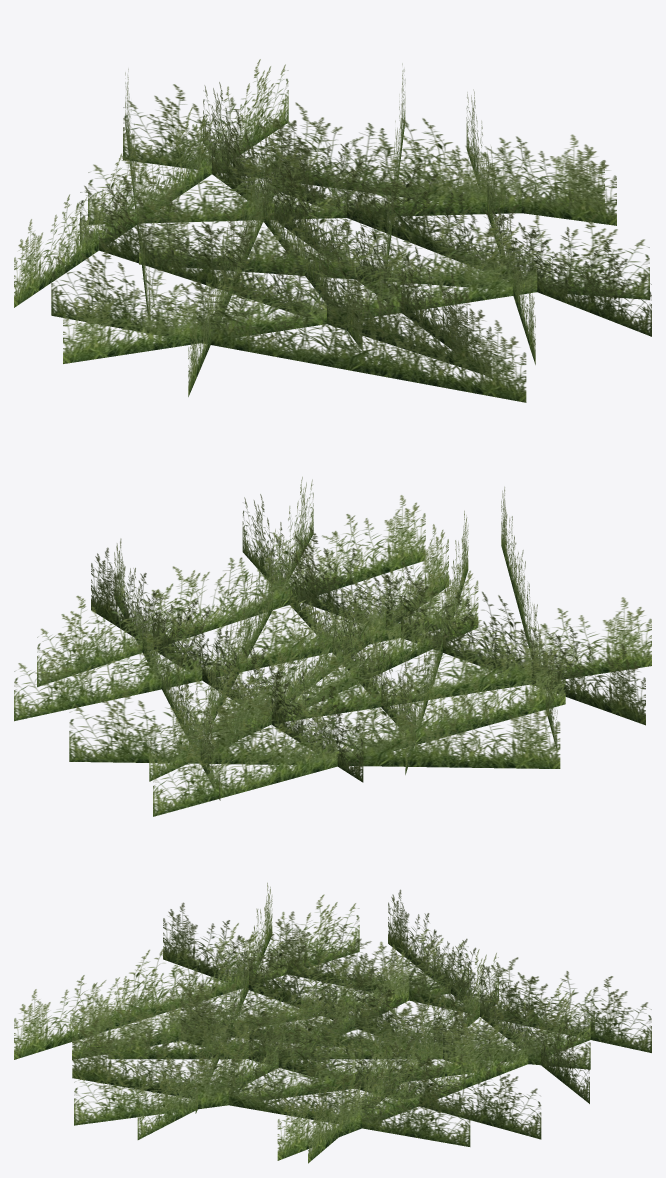
File: green grass.glb
3 views of the same model, one above another, from view 1: azimuth 30°, elevation 25°; view 2: azimuth 150°, elevation 25°; view 3: azimuth 270°, elevation 25° (orthographic). The views are drawn at different scales.
Parts seen in each view (by area): view 1: grass transparent.002, grass transparent.012, grass transparent.009, grass transparent.011, grass transparent.007, grass transparent.006, grass transparent.013, grass transparent.008, grass transparent, grass transparent.010, grass transparent.001, grass transparent.003 (+2 smaller); view 2: grass transparent.008, grass transparent.001, grass transparent.004, grass transparent.005, grass transparent.003, grass transparent.009, grass transparent.010, grass transparent.012, grass transparent, grass transparent.011, grass transparent.013, grass transparent.007 (+2 smaller); view 3: grass transparent.003, grass transparent.013, grass transparent, grass transparent.005, grass transparent.002, grass transparent.004, grass transparent.007, grass transparent.006, grass transparent.010, grass transparent.001, grass transparent.011, grass transparent.008 (+2 smaller).
Part boxes in pixels (x1,y1,x2,y2): grass transparent.002: (51,242,526,402); grass transparent.012: (88,134,604,224); grass transparent.009: (63,215,550,363); grass transparent.011: (139,189,649,299); grass transparent.007: (123,84,616,225); grass transparent.006: (80,175,491,374); grass transparent.013: (271,120,651,336); grass transparent.008: (14,59,288,307); grass transparent: (209,109,467,351); grass transparent.010: (203,82,362,349); grass transparent.001: (188,122,279,396); grass transparent.003: (466,89,535,364); grass transparent.008: (69,684,560,768); grass transparent.001: (189,597,651,734); grass transparent.004: (14,559,451,721); grass transparent.005: (153,638,565,816); grass transparent.003: (37,495,425,686); grass transparent.009: (271,527,645,725); grass transparent.010: (149,564,478,781); grass transparent.012: (91,547,363,782); grass transparent: (203,524,448,760); grass transparent.011: (242,494,415,742); grass transparent.013: (205,477,313,732); grass transparent.007: (114,538,220,800); grass transparent.003: (72,1018,470,1146); grass transparent.013: (74,1011,484,1125); grass transparent: (108,991,538,1059); grass transparent.005: (269,911,651,1052); grass transparent.002: (14,894,359,1059); grass transparent.004: (180,983,541,1139); grass transparent.007: (277,982,594,1160); grass transparent.006: (72,929,468,1059); grass transparent.010: (170,970,590,1069); grass transparent.001: (163,902,491,1072); grass transparent.011: (137,944,409,1139); grass transparent.008: (388,889,589,1103).
Bounding box in the file's own units: 3.26 × 0.6002 × 3.85.
1 material, 1 textured.
